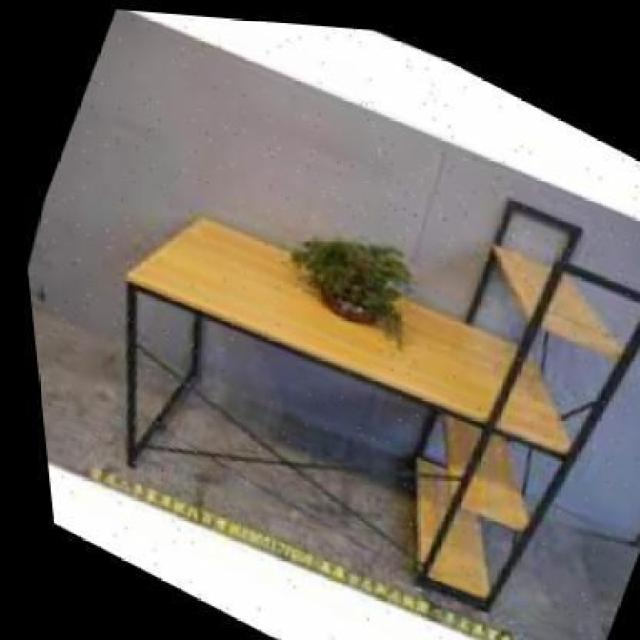tables: (122, 212, 572, 610)
